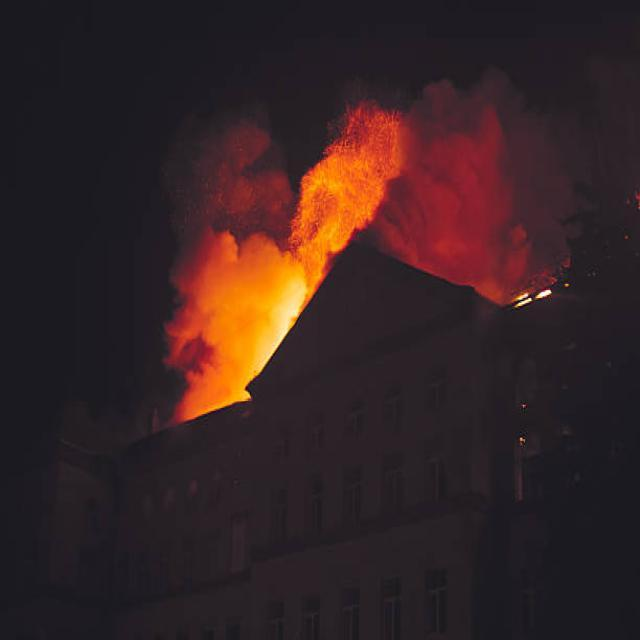Fire: (186, 221, 318, 395), (296, 112, 418, 236)
Smoke: (374, 87, 584, 295), (174, 77, 305, 280)
